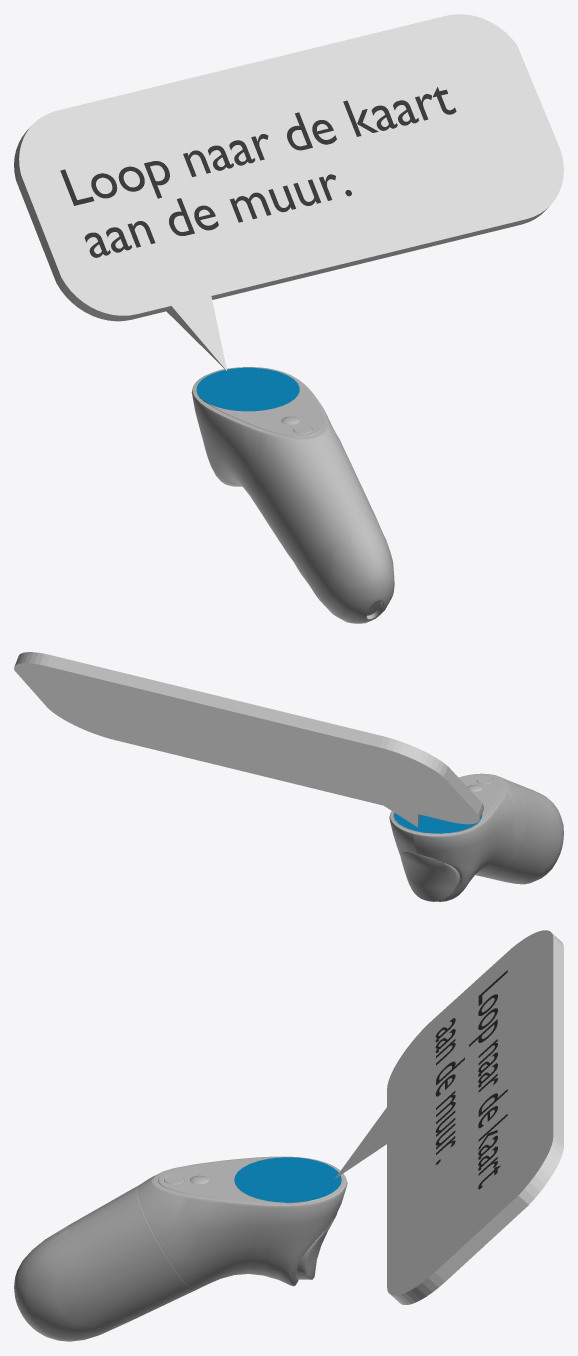
File: REMOTE-tutorial-9-touchpad-2.fbx
3 views of the same model, one above another, from view 1: azimuth 30°, elevation 25°; view 2: azimuth 150°, elevation 25°; view 3: azimuth 270°, elevation 25° (orthographic). The views are drawn at different scales.
Parts seen in each view (by area): view 1: Curve, Circle, Text; view 2: Curve, Circle; view 3: Curve, Circle, Text.
Part boxes in pixels (x1,y1,x2,y2): Curve: (14,14,563,371); Circle: (191,367,394,623); Text: (60,87,456,257); Curve: (14,652,483,827); Circle: (389,773,563,901); Curve: (335,930,563,1304); Circle: (14,1156,347,1341); Text: (435,970,507,1189).
Size of the model in its own units: 426 by 288 by 390.
